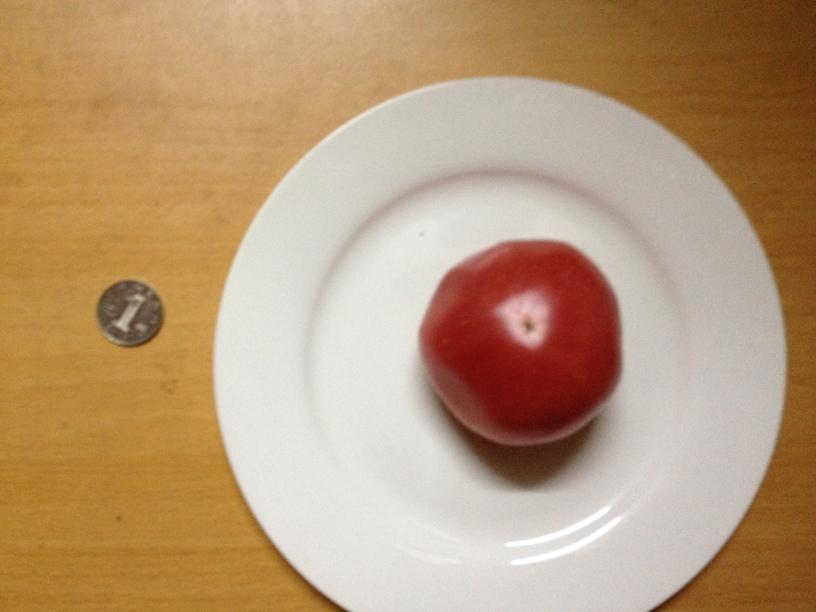coin: (94, 278, 164, 346)
tomato: (409, 241, 622, 444)
